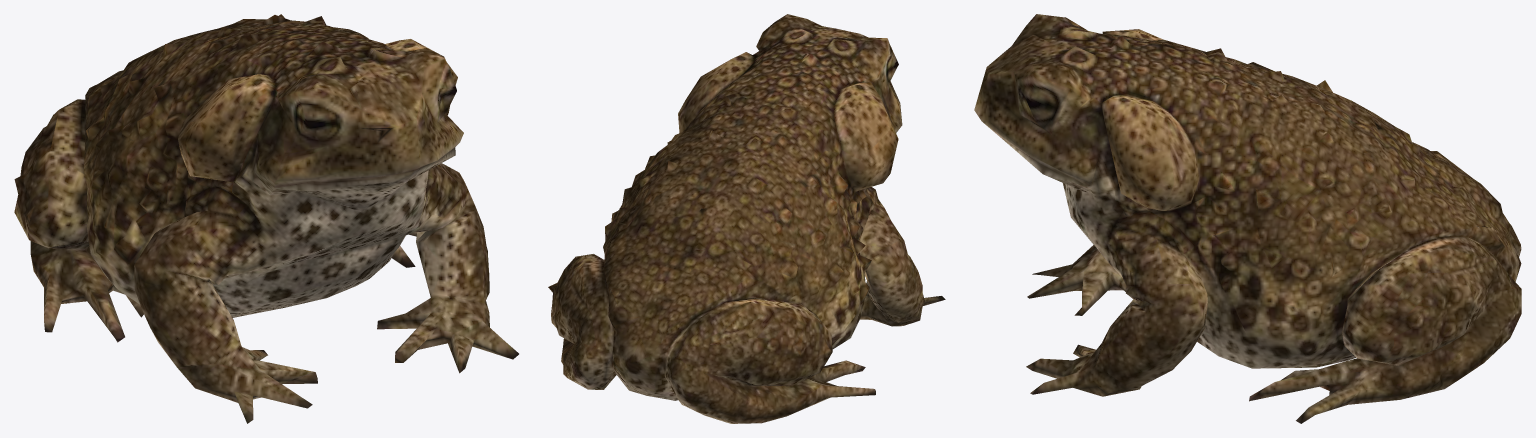
File: toad-phone.glb
The picture shows the model from 3 angles, left to right: view 1: azimuth 30°, elevation 25°; view 2: azimuth 150°, elevation 25°; view 3: azimuth 270°, elevation 25°; orthographic projection. The views are drawn at different scales.
Parts seen in each view (by area): view 1: Model; view 2: Model; view 3: Model.
Boxes of the visible parts, left/top/right/bottom form: Model: left=14, top=14, right=518, bottom=423; Model: left=548, top=14, right=945, bottom=423; Model: left=974, top=14, right=1521, bottom=423.
Size of the model in its own units: 1.45 by 1.15 by 1.9.
1 material, 1 textured.
